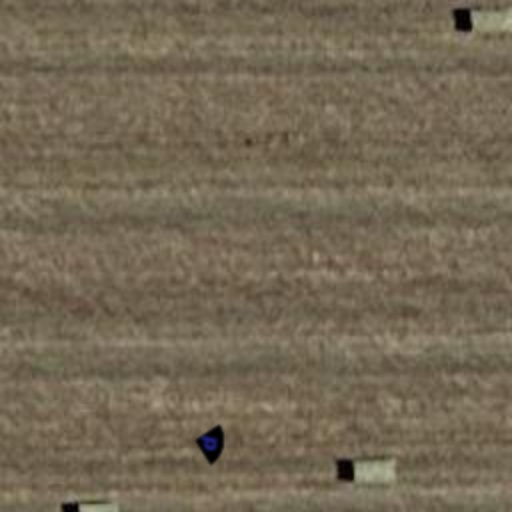quarter_circle: (188, 420, 236, 468)
